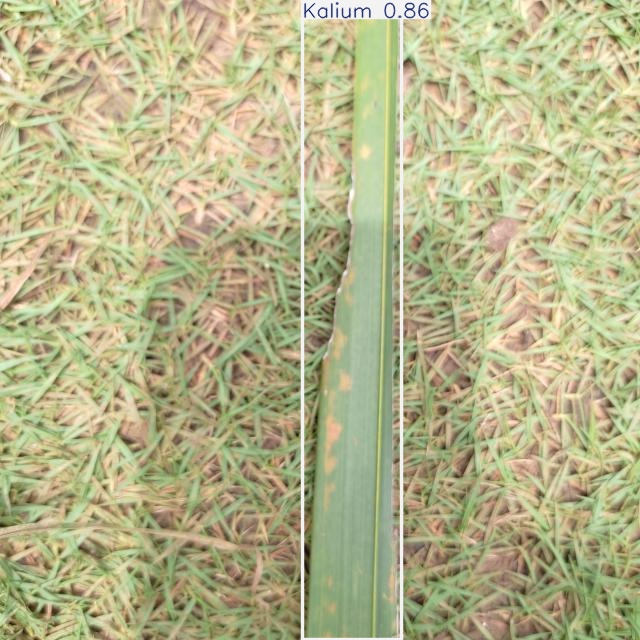Kalium: (302, 0, 402, 640)
